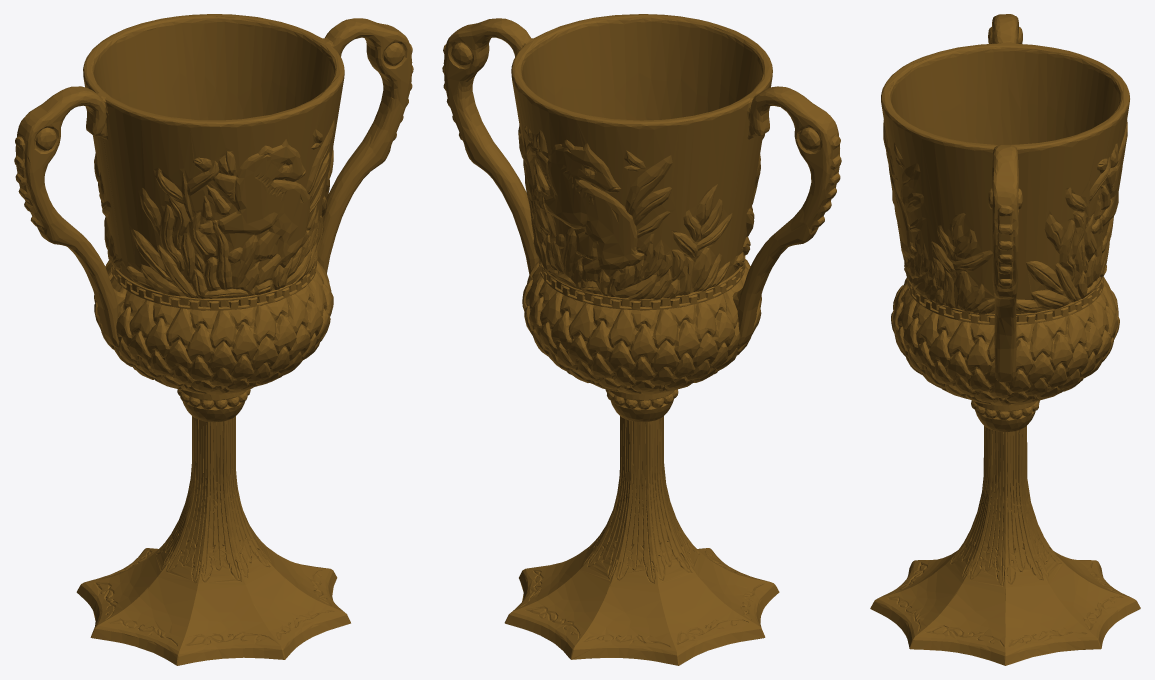
Rendered from cup2.glb.
3 views of the same model, side by side, from view 1: azimuth 30°, elevation 25°; view 2: azimuth 150°, elevation 25°; view 3: azimuth 270°, elevation 25° (orthographic). The views are drawn at different scales.
Visible parts, largest first — view 1: Hufflepuffs_Cup; view 2: Hufflepuffs_Cup; view 3: Hufflepuffs_Cup.
Boxes of the visible parts, bbox=[...] form: Hufflepuffs_Cup: bbox=[14, 14, 413, 665]; Hufflepuffs_Cup: bbox=[442, 14, 841, 665]; Hufflepuffs_Cup: bbox=[870, 14, 1140, 665].
Size of the model in its own units: 0.0897 by 0.1201 by 0.056.
